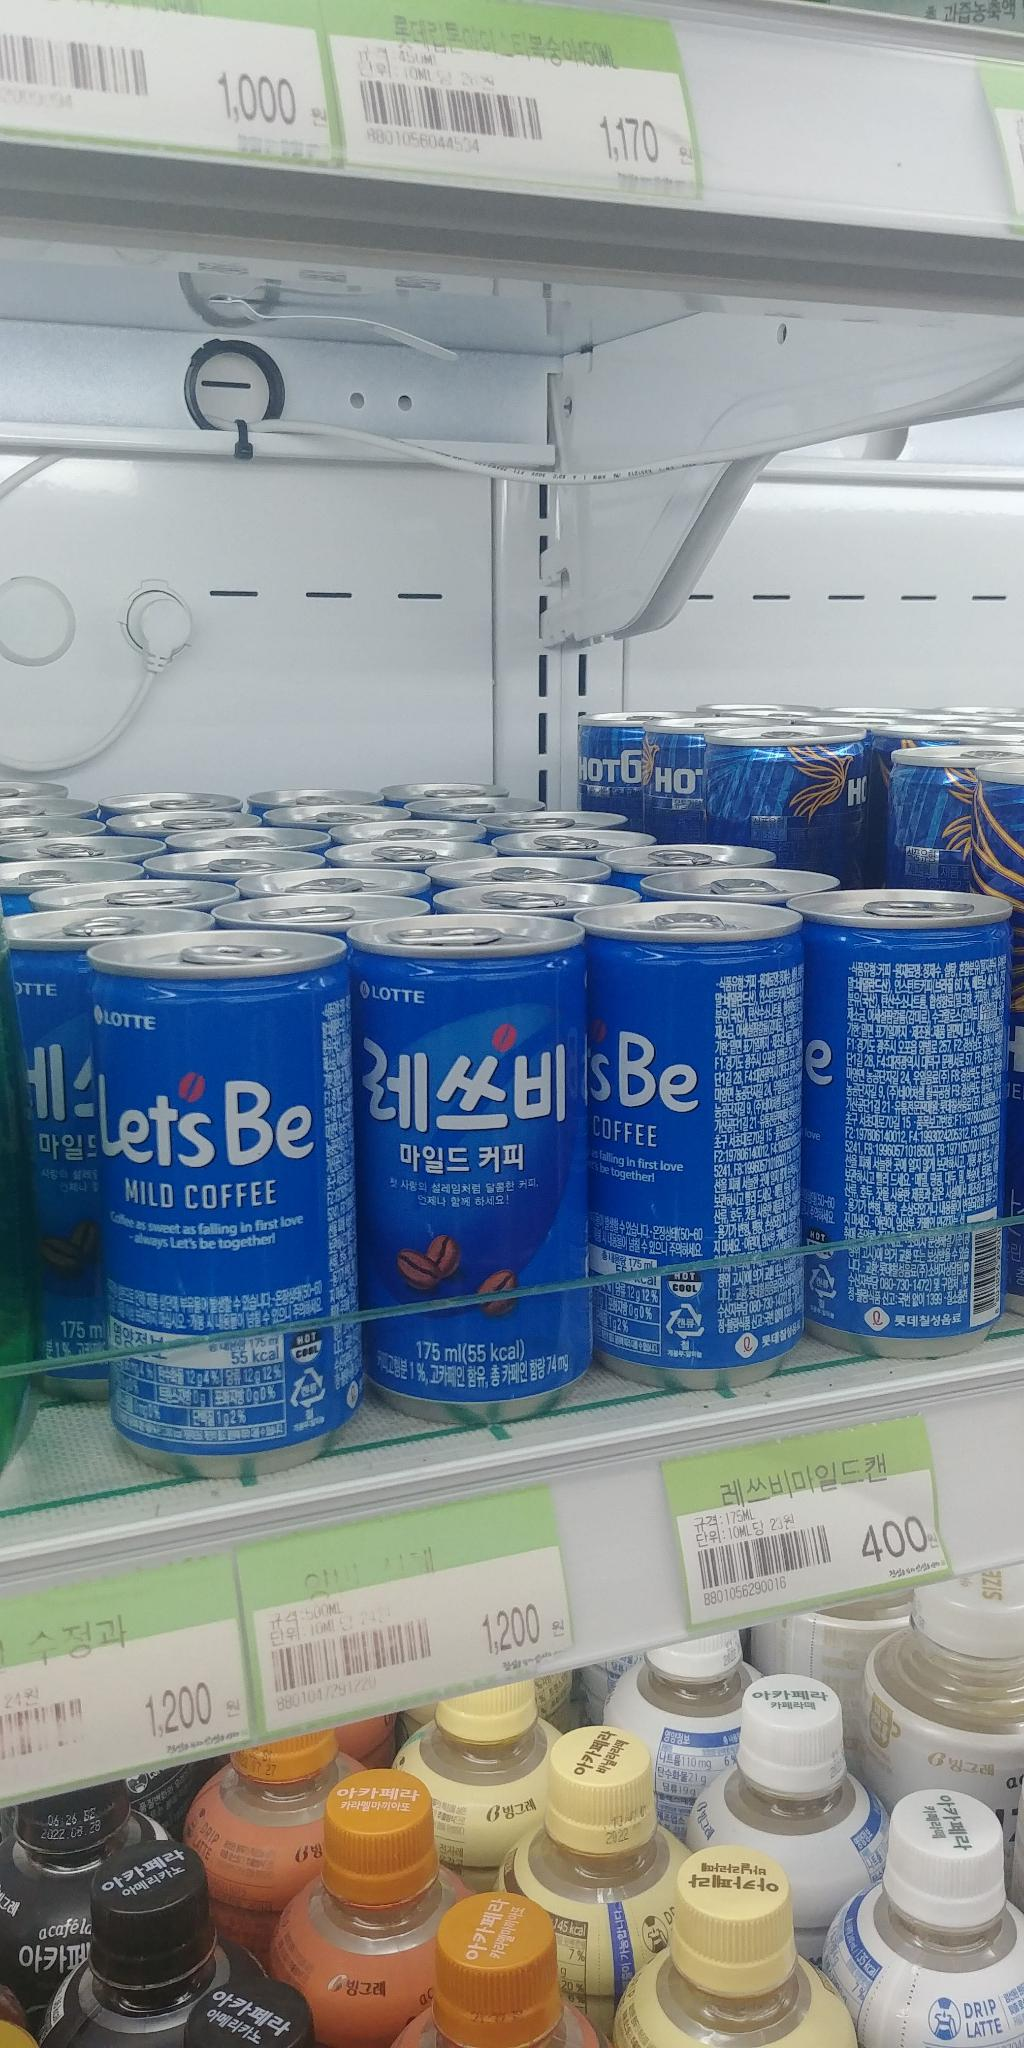letsbe: (85, 921, 393, 1469), (336, 899, 593, 1411), (580, 884, 815, 1400), (792, 861, 1019, 1353)
